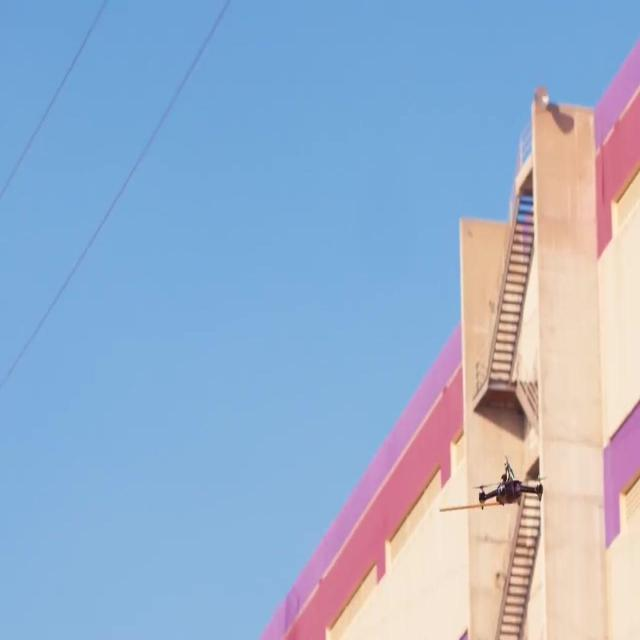drone: (477, 455, 546, 513)
